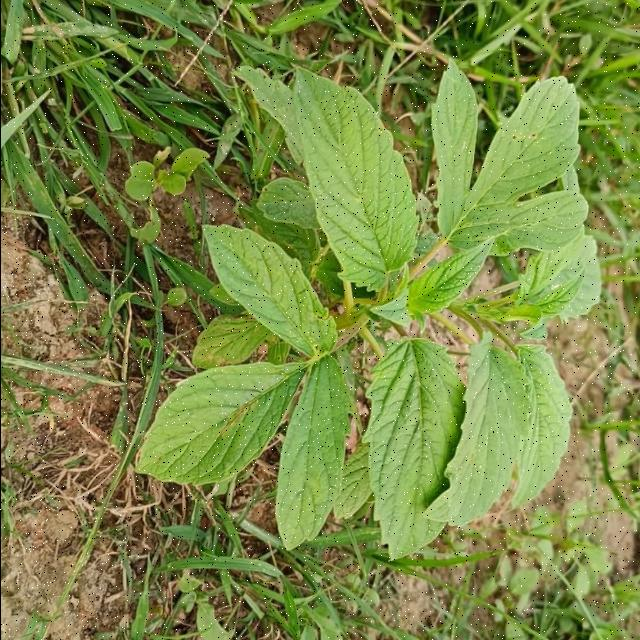plant: (135, 63, 601, 559)
